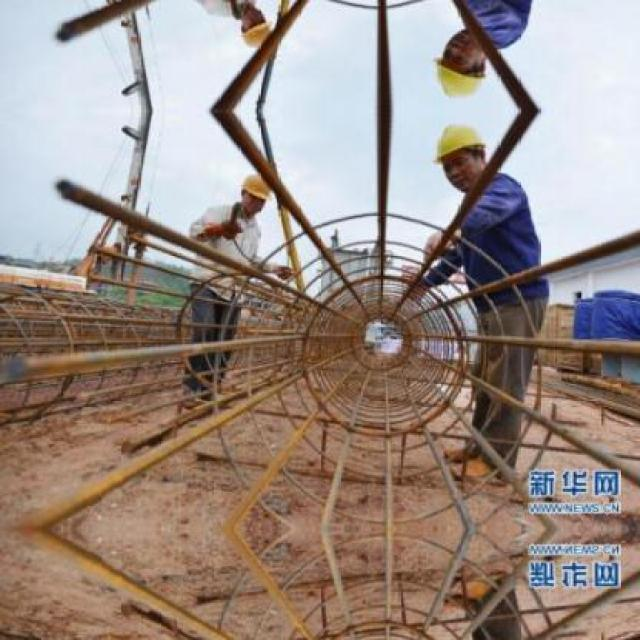helmet: (428, 116, 489, 192), (428, 30, 489, 106), (236, 1, 282, 52), (236, 170, 282, 220)
